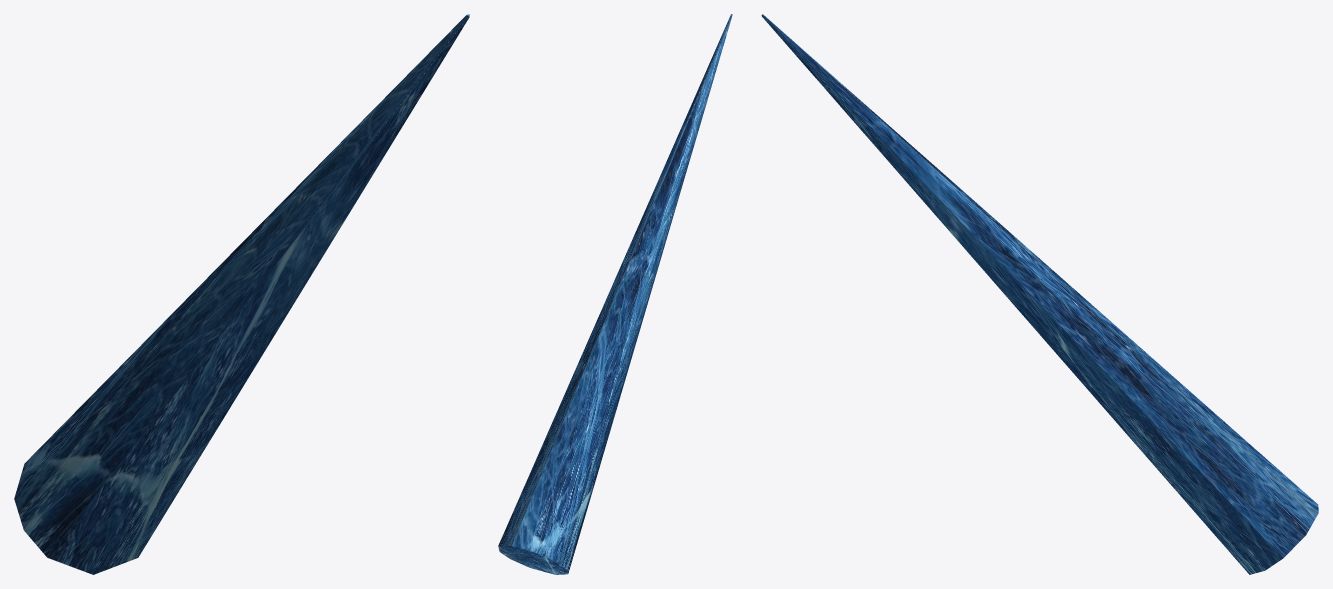
Rendered from IskosenSpike.fbx.
The picture shows the model from 3 angles, left to right: view 1: azimuth 30°, elevation 25°; view 2: azimuth 150°, elevation 25°; view 3: azimuth 270°, elevation 25°; orthographic projection. The views are drawn at different scales.
Visible parts, largest first — view 1: Cylinder; view 2: Cylinder; view 3: Cylinder.
Part boxes in pixels (<box>): Cylinder: <box>14,14,469,574</box>; Cylinder: <box>498,14,732,574</box>; Cylinder: <box>761,14,1318,574</box>.
Size of the model in its own units: 25.49 by 157 by 143.
